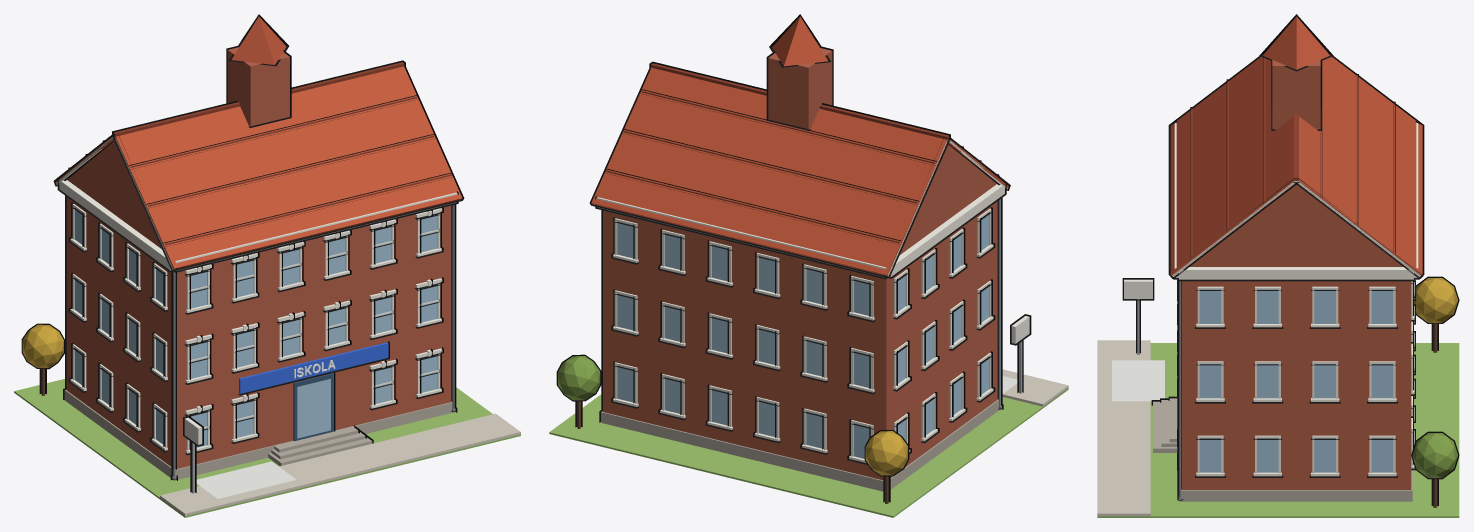
File: Kamu_okul_1.fbx
The picture shows the model from 3 angles, left to right: view 1: azimuth 30°, elevation 25°; view 2: azimuth 150°, elevation 25°; view 3: azimuth 270°, elevation 25°; orthographic projection. The views are drawn at different scales.
Parts seen in each view (by area): view 1: Kamu_okul_1; view 2: Kamu_okul_1; view 3: Kamu_okul_1.
Part boxes in pixels (left/top/right/bottom): Kamu_okul_1: left=14, top=14, right=520, bottom=517; Kamu_okul_1: left=549, top=14, right=1068, bottom=517; Kamu_okul_1: left=1097, top=14, right=1459, bottom=517.
Size of the model in its own units: 17.21 by 19.08 by 15.
